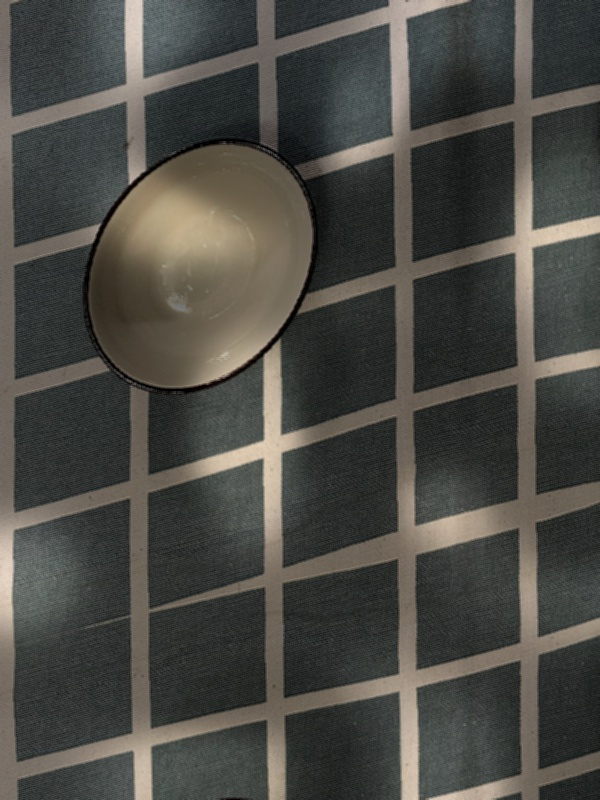bowl_small: (76, 100, 326, 429)
